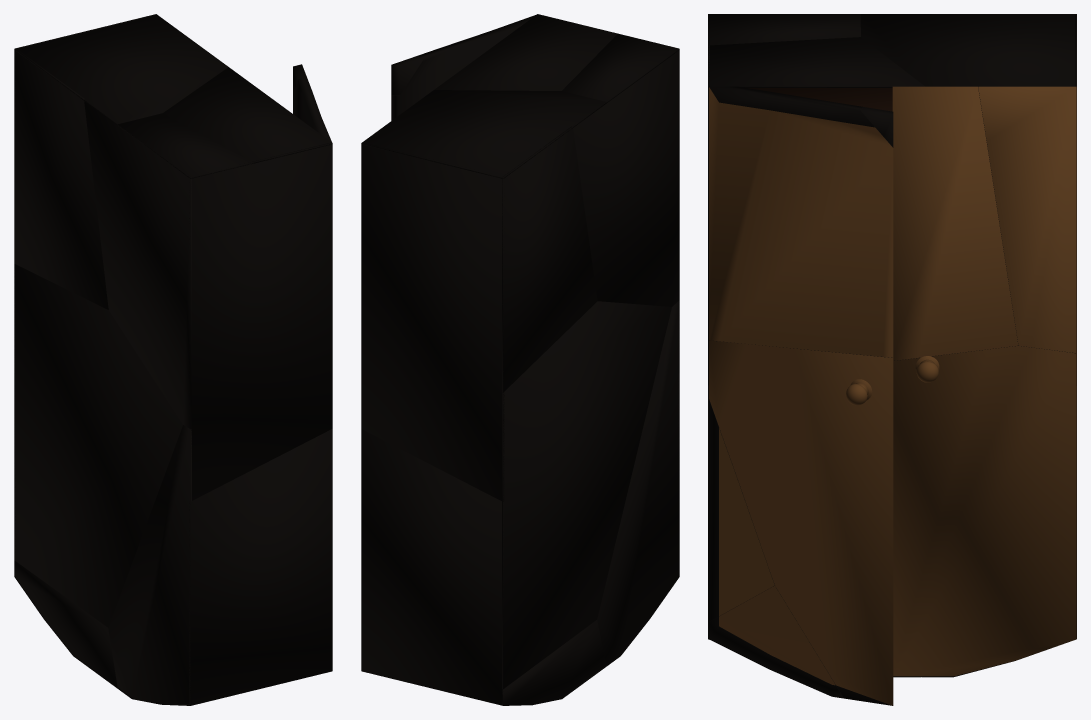
3 renders of one model, left to right at view 1: azimuth 30°, elevation 25°; view 2: azimuth 150°, elevation 25°; view 3: azimuth 270°, elevation 25°, orthographic. The views are drawn at different scales.
Parts seen in each view (by area): view 1: Cube_cell.006, Cube.006_cell.003, Cube_cell.010, Cube.006_cell.004, Cube.006_cell, Cube.006_cell.002, Cube.005_cell, Cube.005_cell.001, Cube.006_cell.001, Cube.005_cell.002, Cube.002_cell.008; view 2: Cube_cell.008, Cube.006_cell.003, Cube_cell.009, Cube.006_cell.004, Cube.006_cell, Cube.006_cell.002, Cube.005_cell, Cube.005_cell.001, Cube.006_cell.001, Cube.005_cell.002, Cube.002_cell.008, Cube.002_cell.007; view 3: Cube.001_cell.006, Cube.002_cell.010, Cube.002_cell.008, Cube.001_cell.008, Cube.001_cell.007, Cube.005_cell, Cube.005_cell.001, Cube.002_cell.011, Cube.002_cell.009, Cube.005_cell.002, Cube.003_cell.008, Cube.002_cell.007.
Boxes of the visible parts, x1=… form: Cube_cell.006: x1=189, y1=142, x2=332, y2=500; Cube.006_cell.003: x1=14, y1=264, x2=182, y2=627; Cube_cell.010: x1=189, y1=429, x2=332, y2=705; Cube.006_cell.004: x1=84, y1=100, x2=191, y2=428; Cube.006_cell: x1=14, y1=48, x2=108, y2=309; Cube.006_cell.002: x1=108, y1=425, x2=191, y2=705; Cube.005_cell: x1=15, y1=14, x2=228, y2=124; Cube.005_cell.001: x1=163, y1=67, x2=332, y2=163; Cube.006_cell.001: x1=14, y1=560, x2=117, y2=686; Cube.005_cell.002: x1=118, y1=113, x2=252, y2=178; Cube.002_cell.008: x1=293, y1=78, x2=331, y2=142; Cube_cell.008: x1=361, y1=142, x2=504, y2=501; Cube.006_cell.003: x1=502, y1=301, x2=671, y2=689; Cube_cell.009: x1=361, y1=429, x2=504, y2=705; Cube.006_cell.004: x1=573, y1=49, x2=679, y2=306; Cube.006_cell: x1=502, y1=126, x2=597, y2=392; Cube.006_cell.002: x1=597, y1=300, x2=679, y2=665; Cube.005_cell: x1=361, y1=90, x2=606, y2=178; Cube.005_cell.001: x1=434, y1=14, x2=616, y2=90; Cube.006_cell.001: x1=502, y1=620, x2=606, y2=705; Cube.005_cell.002: x1=562, y1=33, x2=679, y2=102; Cube.002_cell.008: x1=391, y1=14, x2=536, y2=120; Cube.002_cell.007: x1=391, y1=56, x2=423, y2=94; Cube.001_cell.006: x1=893, y1=345, x2=1076, y2=676; Cube.002_cell.010: x1=709, y1=340, x2=893, y2=705; Cube.002_cell.008: x1=709, y1=86, x2=893, y2=357; Cube.001_cell.008: x1=892, y1=86, x2=1018, y2=360; Cube.001_cell.007: x1=978, y1=86, x2=1076, y2=353; Cube.005_cell: x1=860, y1=14, x2=1076, y2=87; Cube.005_cell.001: x1=708, y1=37, x2=924, y2=87; Cube.002_cell.011: x1=709, y1=399, x2=774, y2=621; Cube.002_cell.009: x1=709, y1=585, x2=843, y2=698; Cube.005_cell.002: x1=708, y1=14, x2=860, y2=45; Cube.003_cell.008: x1=748, y1=88, x2=892, y2=111; Cube.002_cell.007: x1=861, y1=107, x2=893, y2=147.
Bounding box in the file's own units: 115 × 169 × 299.
